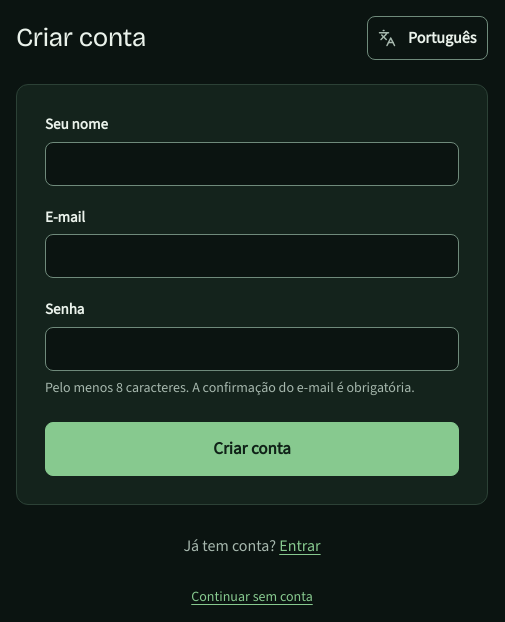
Test: replaces successful signup with a focused email confirmation and resend cooldown
In the field labelled "Seu nome": (252, 164) [45,142,459,186], type "Ana"
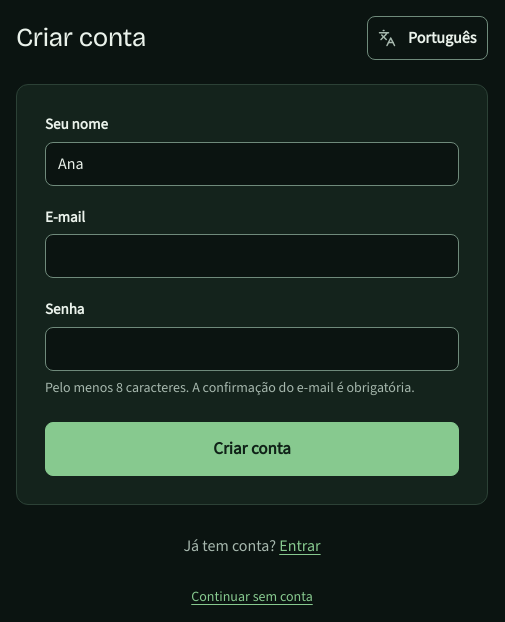
In the field labelled "E-mail": (252, 256) [45,234,459,278], type "ana@example.com"
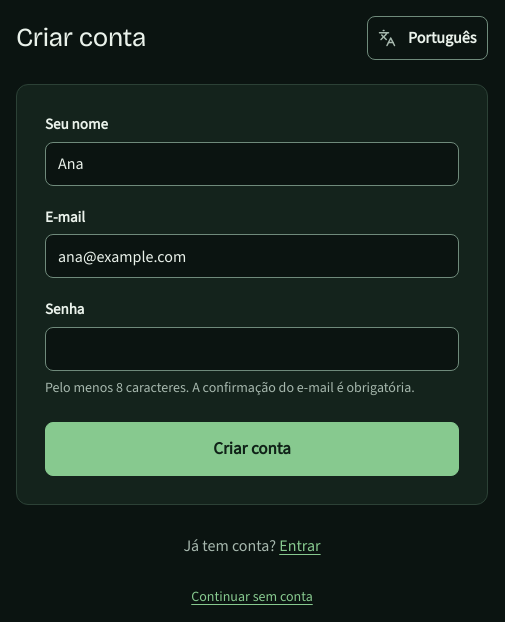
In the password field labelled "Senha": (252, 348) [45,326,459,370], type "password-123"
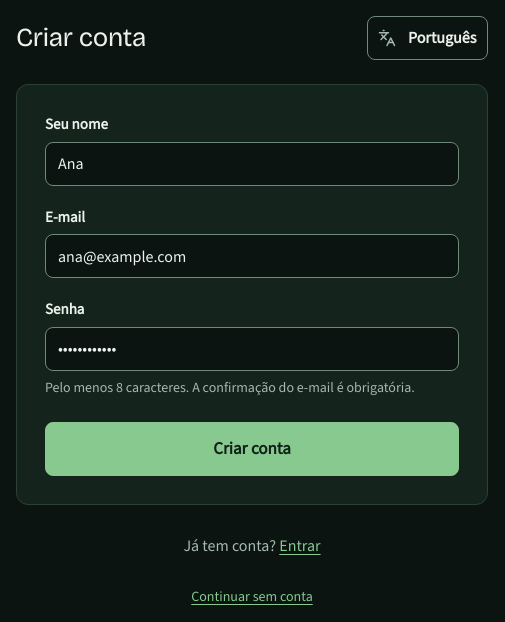
Click the button "Criar conta": (252, 448) [45,422,459,476]
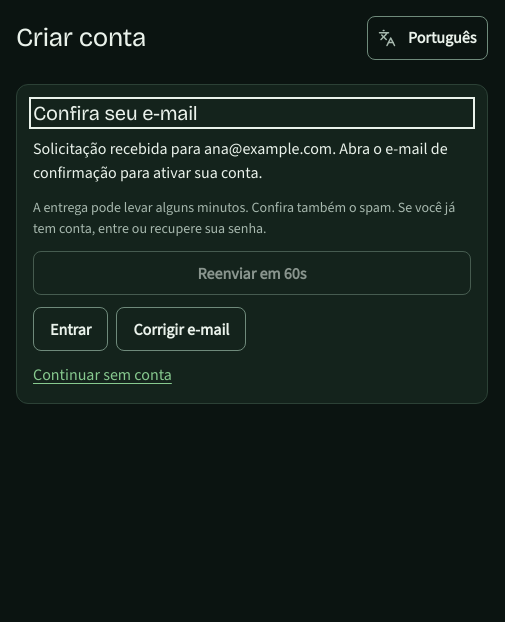
Check: the field labelled "Senha" is not shown
Check: the message shows "ana@example.com", box [33,138,448,183]
Check: the button "Reenviar em 60s" is disabled, box [33,251,471,295]
Click the button "Corrigir e-mail": (181, 329) [116,307,246,351]
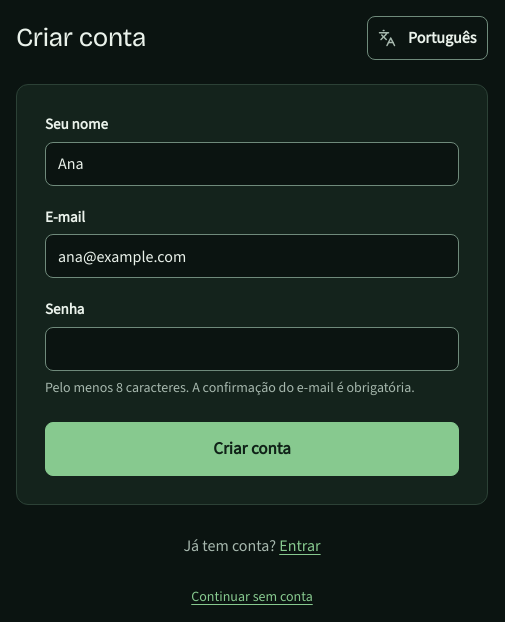
Check: the password field labelled "Senha" is empty, box [45,326,459,370]
